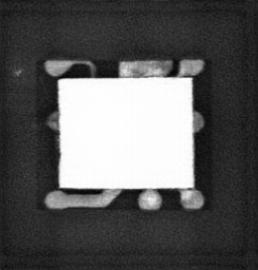DIE_INK: (13, 66, 23, 78)
